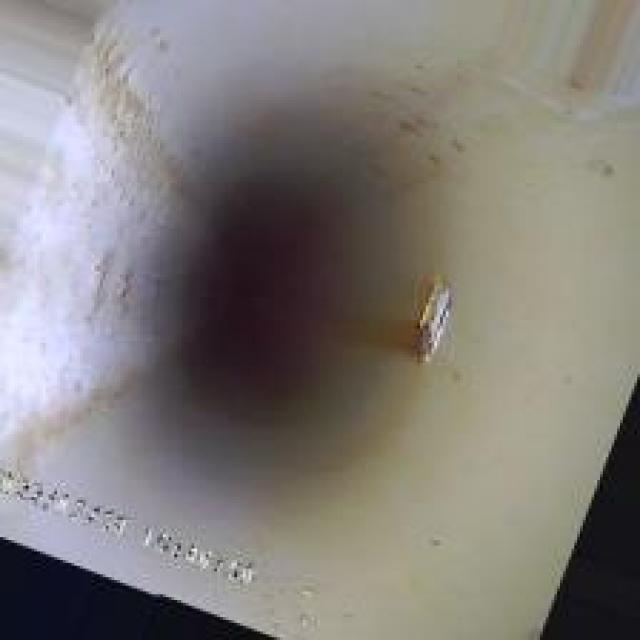ferrule: (400, 263, 460, 371)
